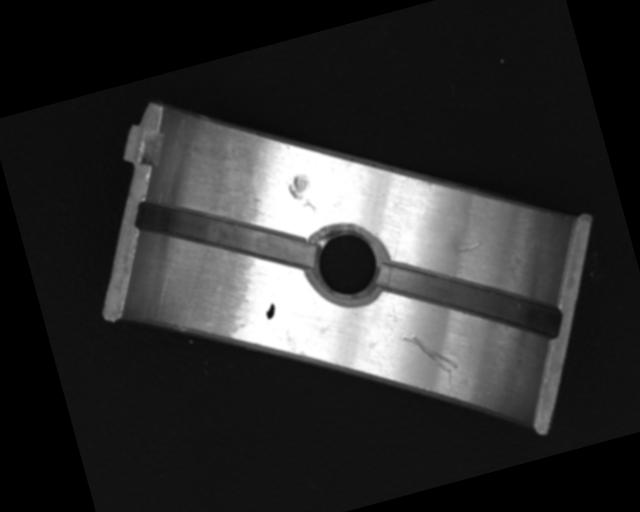blot: (263, 301, 278, 320)
bruise: (284, 170, 318, 218)
gap: (375, 220, 567, 377), (129, 161, 317, 307)
hole: (302, 217, 396, 312)
nick: (401, 322, 460, 384), (454, 239, 484, 256)
